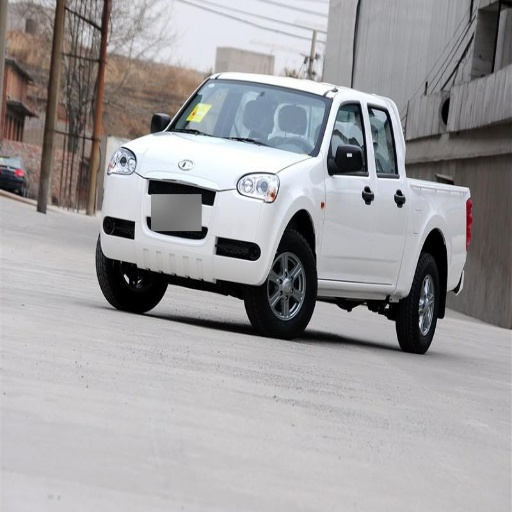back_bumper: (141, 224, 219, 261)
back_glass: (169, 82, 247, 136)
back_left_door: (364, 101, 405, 284)
front_bumper: (101, 213, 280, 284)
front_glass: (238, 85, 329, 154)
front_left_door: (322, 99, 378, 281)
tailgate: (119, 131, 225, 231)
trunk: (406, 181, 466, 288)
